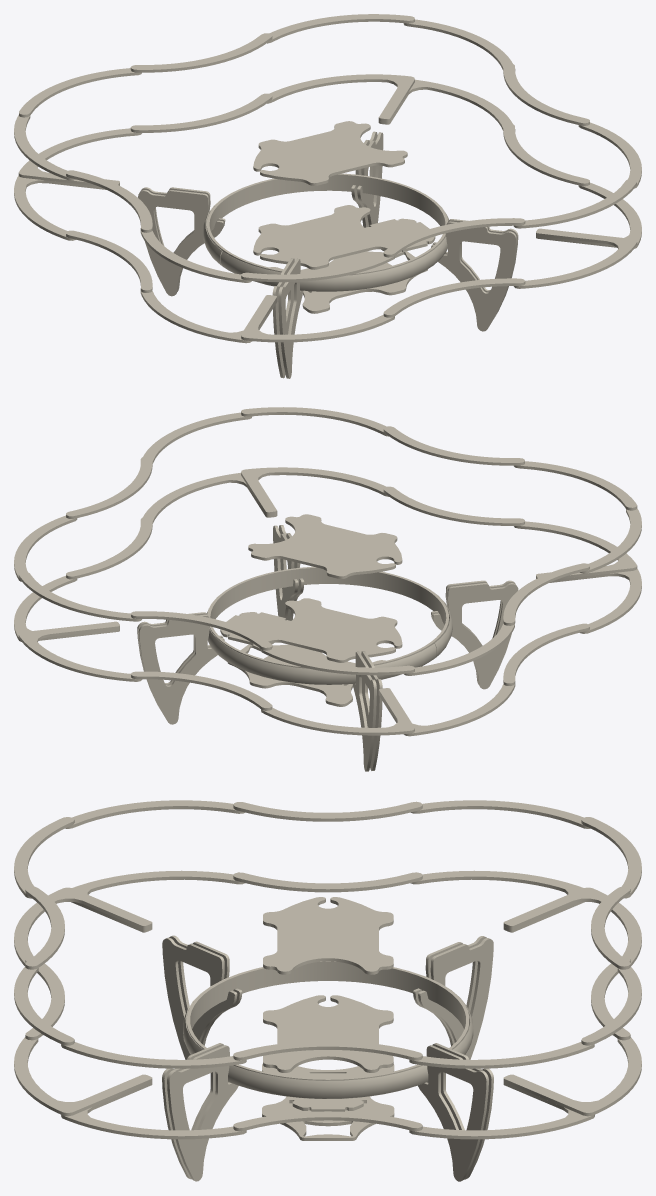
The model's file is clover_guards_transparent.dae.
The picture shows the model from 3 angles, top to bottom: view 1: azimuth 30°, elevation 25°; view 2: azimuth 150°, elevation 25°; view 3: azimuth 270°, elevation 25°; orthographic projection. The views are drawn at different scales.
Visible parts, largest first — view 1: Transparent_parts; view 2: Transparent_parts; view 3: Transparent_parts.
Boxes of the visible parts, x1,y1,x2,y2 form: Transparent_parts: (14,14,641,378); Transparent_parts: (14,407,641,771); Transparent_parts: (14,800,641,1181).
Bounding box in the file's own units: 0.355 × 0.355 × 0.1228.
